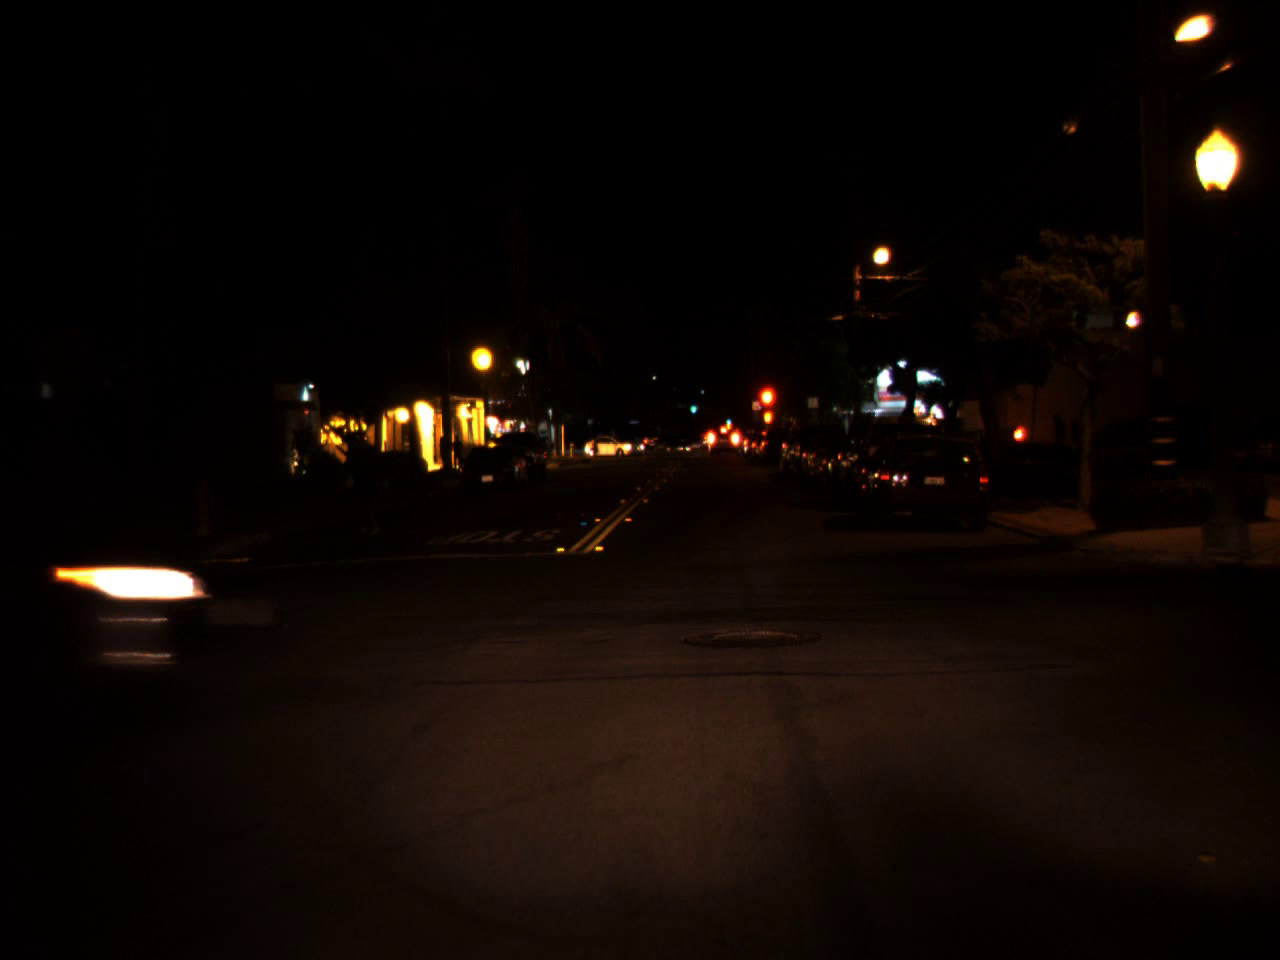go: (687, 398, 696, 413), (724, 412, 731, 424)
stop: (756, 384, 780, 432)
